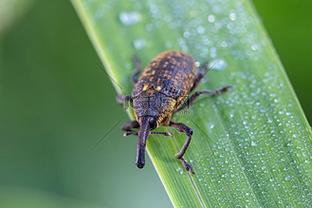Curculionidae: (113, 49, 234, 178)
